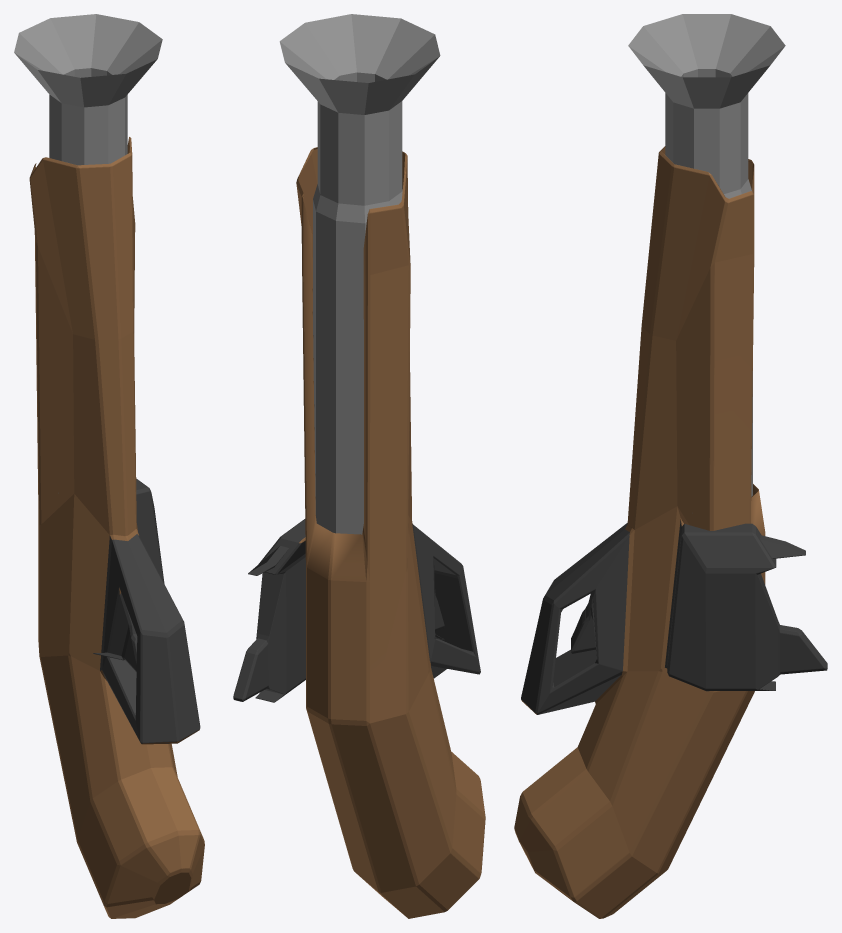
Rendered from pistol.glb.
3 renders of one model, left to right at view 1: azimuth 30°, elevation 25°; view 2: azimuth 150°, elevation 25°; view 3: azimuth 270°, elevation 25°, orthographic. The views are drawn at different scales.
Parts seen in each view (by area): view 1: pistol; view 2: pistol; view 3: pistol.
Part boxes in pixels (x1,y1,x2,y2): pistol: (14, 14, 204, 918); pistol: (233, 14, 485, 918); pistol: (514, 14, 827, 918).
Bounding box in the file's own units: 0.1444 × 0.9025 × 0.2952.
1 material, 1 textured.
